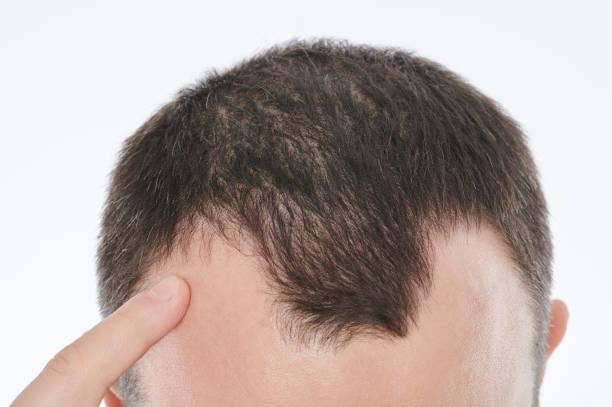dry hair: (344, 141, 393, 186), (368, 193, 397, 237)
low hair density: (309, 64, 383, 136), (259, 182, 317, 273), (272, 158, 335, 214), (324, 191, 360, 271), (258, 97, 296, 154), (209, 102, 235, 167)
